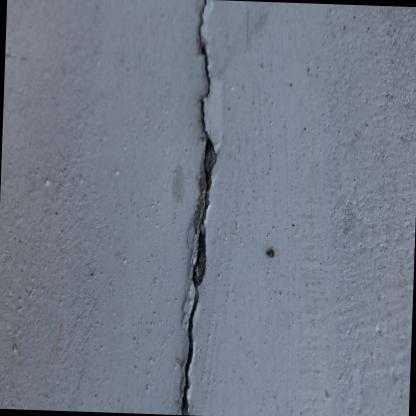crack: (181, 0, 211, 415)
